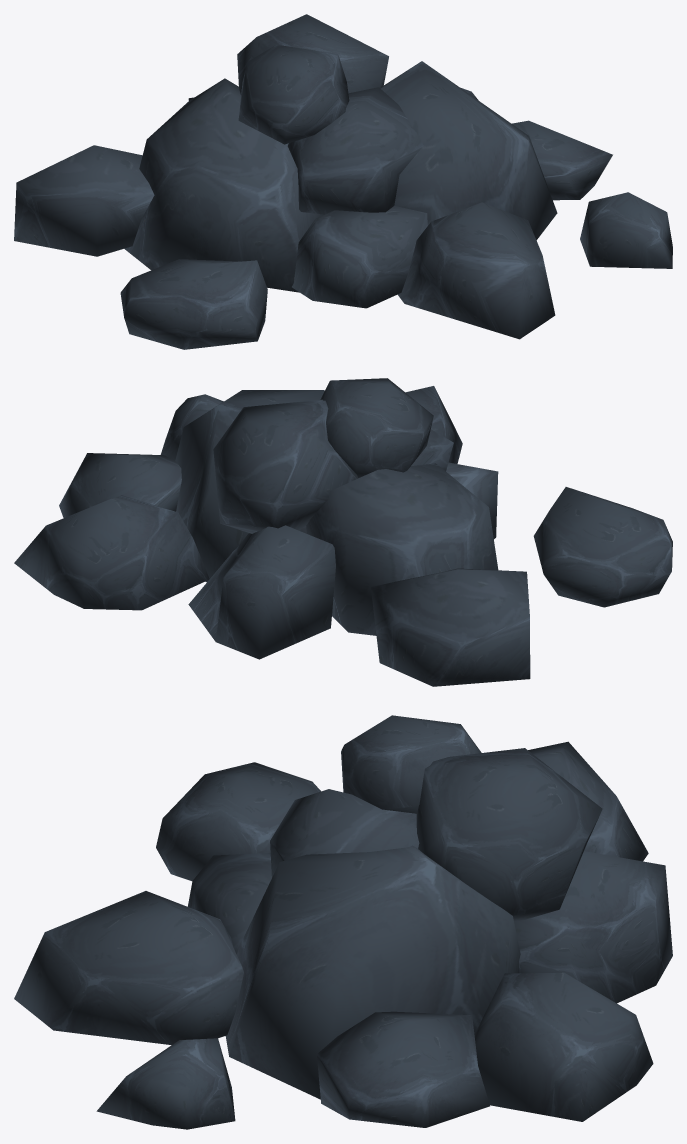
File: SM_PROP_stonepile_battle_03.fbx
3 renders of one model, top to bottom at view 1: azimuth 30°, elevation 25°; view 2: azimuth 150°, elevation 25°; view 3: azimuth 270°, elevation 25°, orthographic. The views are drawn at different scales.
Visible parts, largest first — view 1: SM_PROP_stonepile_battle_03; view 2: SM_PROP_stonepile_battle_03; view 3: SM_PROP_stonepile_battle_03.
Boxes of the visible parts, x1,y1,x2,y2 form: SM_PROP_stonepile_battle_03: [14, 14, 672, 349]; SM_PROP_stonepile_battle_03: [14, 378, 672, 686]; SM_PROP_stonepile_battle_03: [14, 715, 672, 1129].
Size of the model in its own units: 236 by 80.79 by 204.
